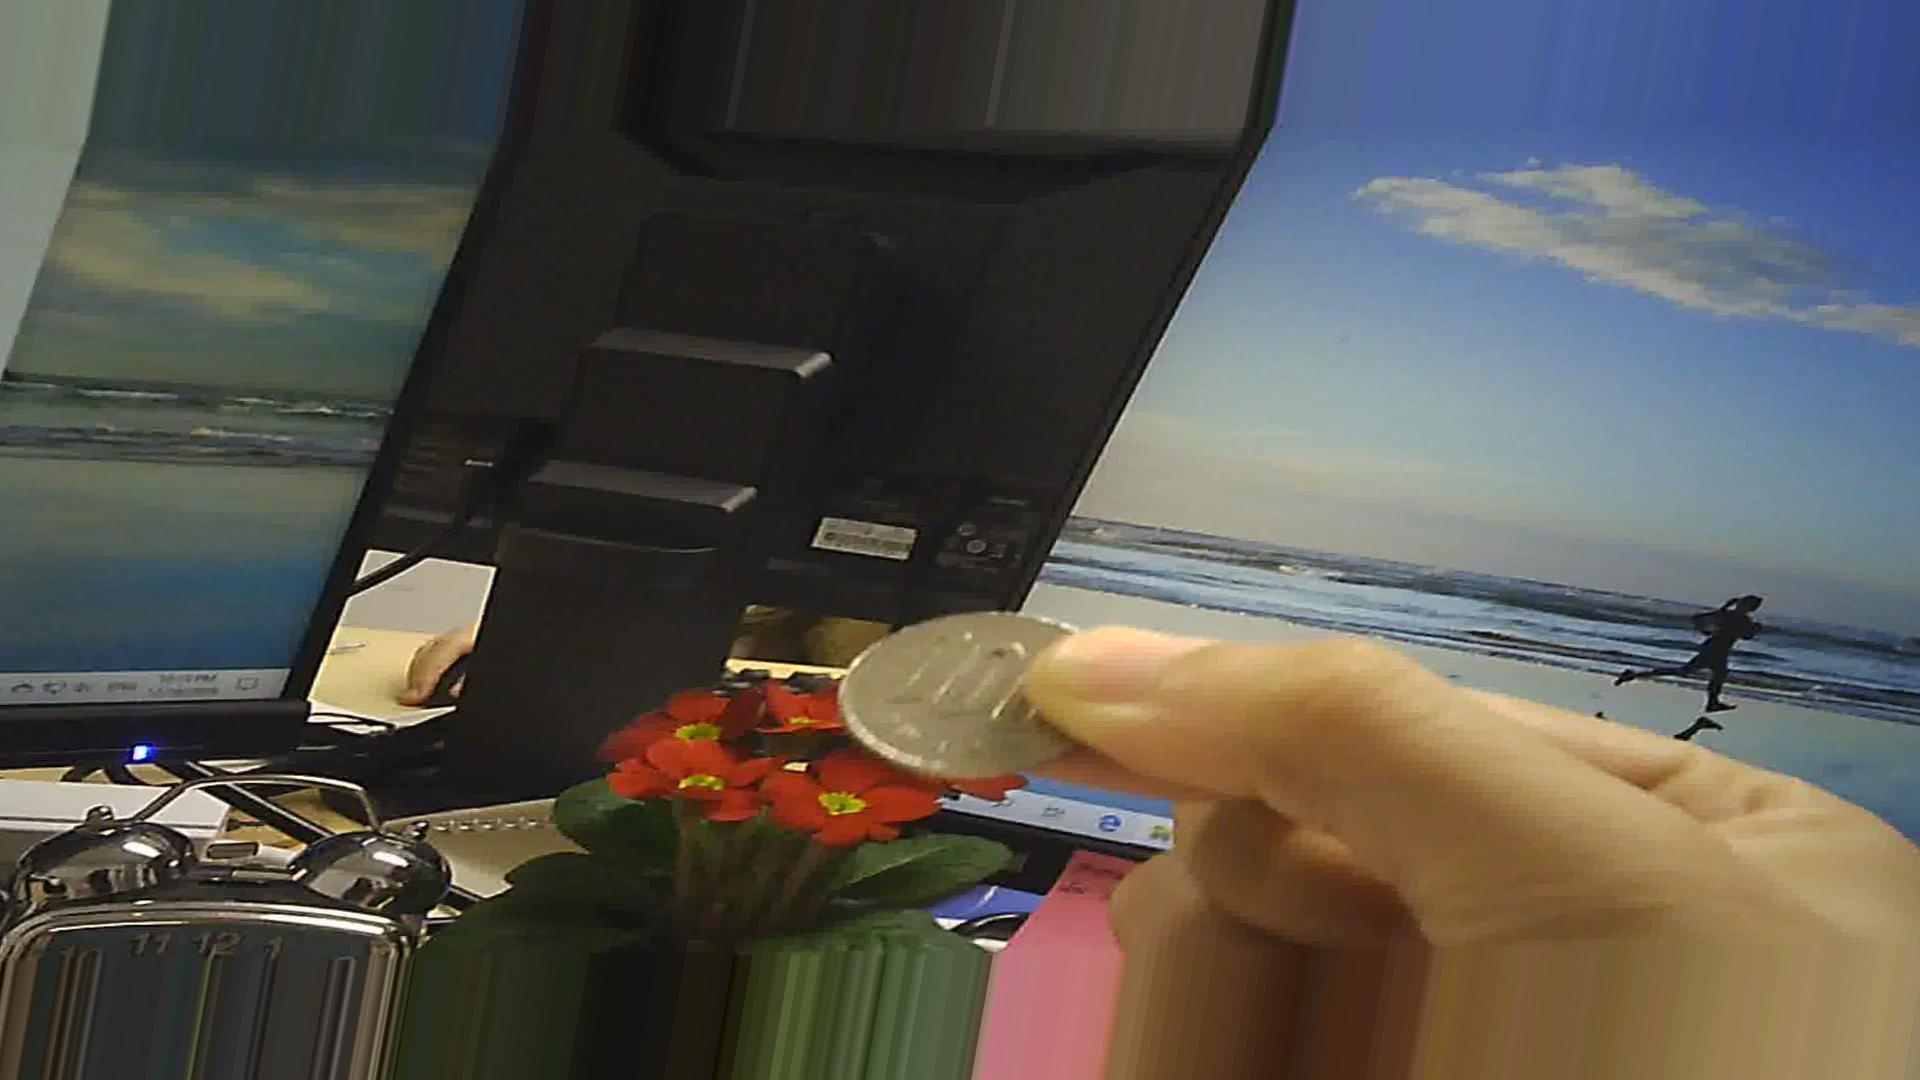100 Yen: (843, 607, 1106, 789)
